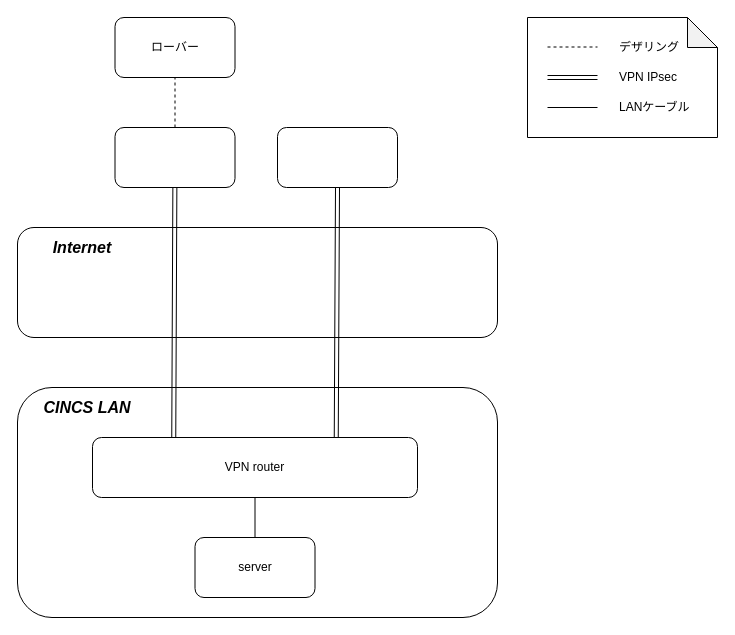
The diagram is 735 pixels wide and 635 high, and some of its shapes have lost their labels. Each missing label, with the centre of its shape:
"クライアント" belongs at pixel 337 157.
"スマートフォン" belongs at pixel 174 157.
